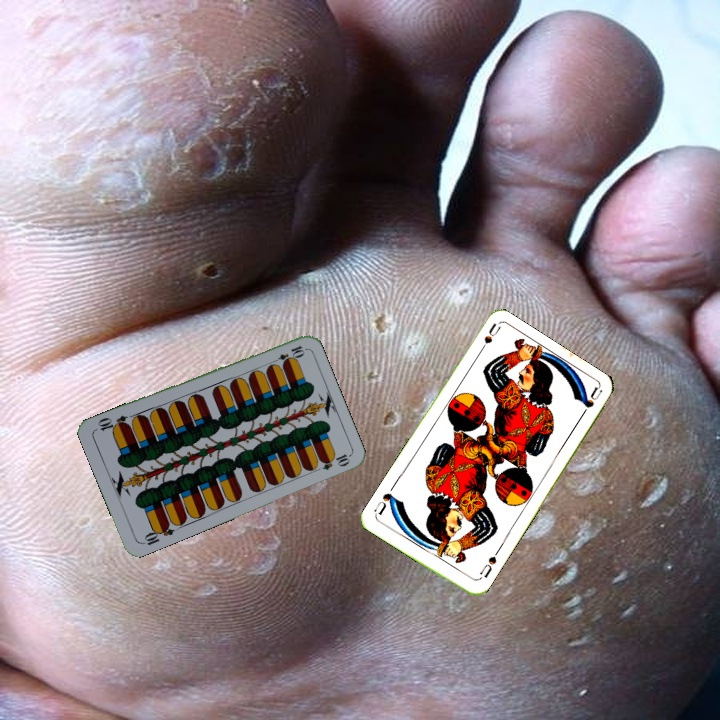E10: (138, 519, 177, 548), (268, 341, 307, 367)
SU: (473, 320, 503, 358), (476, 546, 501, 580)
